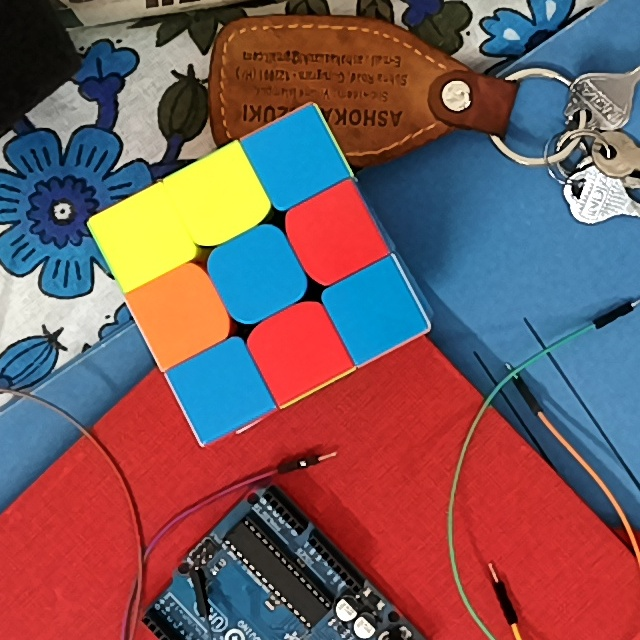tile: (269, 319, 330, 378), (152, 284, 213, 342), (229, 245, 286, 304), (346, 283, 403, 342), (187, 170, 245, 227), (111, 209, 170, 265), (268, 129, 326, 185), (306, 205, 361, 261), (193, 361, 250, 415)
